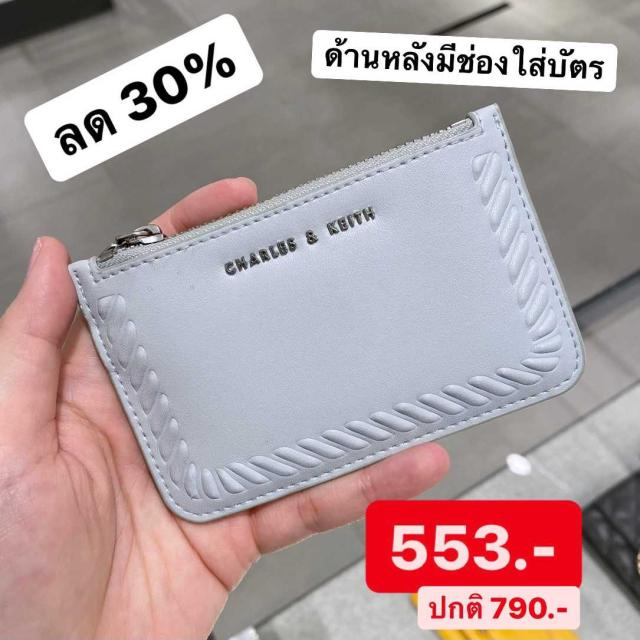bag: (40, 79, 614, 542)
